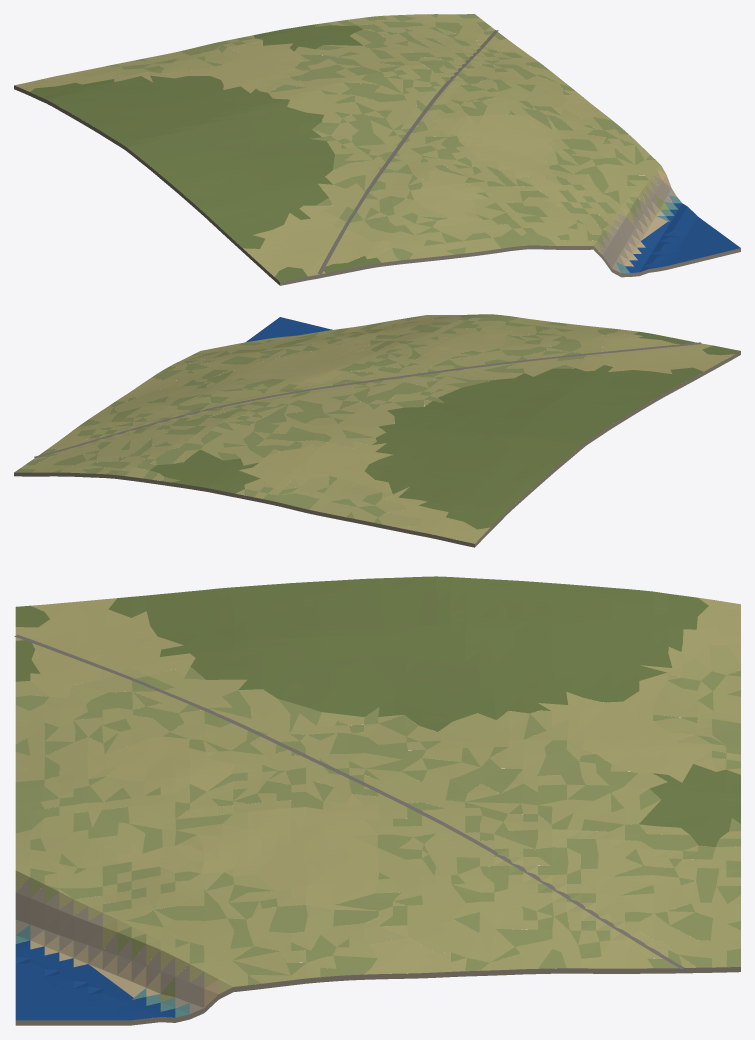
File: parca_+13_-5-uzak.glb
3 views of the same model, one above another, from view 1: azimuth 30°, elevation 25°; view 2: azimuth 150°, elevation 25°; view 3: azimuth 270°, elevation 25° (orthographic). The views are drawn at different scales.
Parts seen in each view (by area): view 1: parca_+13_-5_arazi_uzak, parca_+13_-5_yollar_uzak; view 2: parca_+13_-5_arazi_uzak, parca_+13_-5_yollar_uzak; view 3: parca_+13_-5_arazi_uzak, parca_+13_-5_yollar_uzak.
Part boxes in pixels (x1,y1,x2,y2): parca_+13_-5_arazi_uzak: (14, 14, 740, 285); parca_+13_-5_yollar_uzak: (317, 30, 498, 274); parca_+13_-5_arazi_uzak: (14, 314, 740, 547); parca_+13_-5_yollar_uzak: (34, 342, 701, 458); parca_+13_-5_arazi_uzak: (15, 576, 740, 1025); parca_+13_-5_yollar_uzak: (14, 635, 684, 969).
Size of the model in its own units: 1004 by 217 by 1002.
